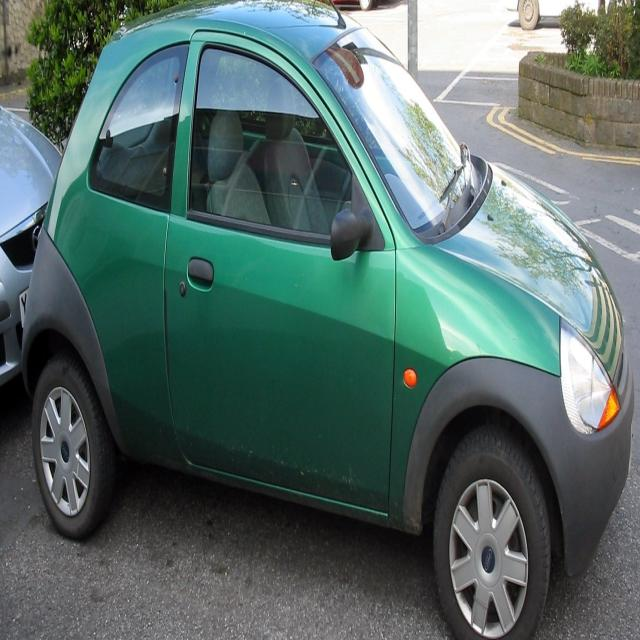green: (21, 0, 636, 639)
